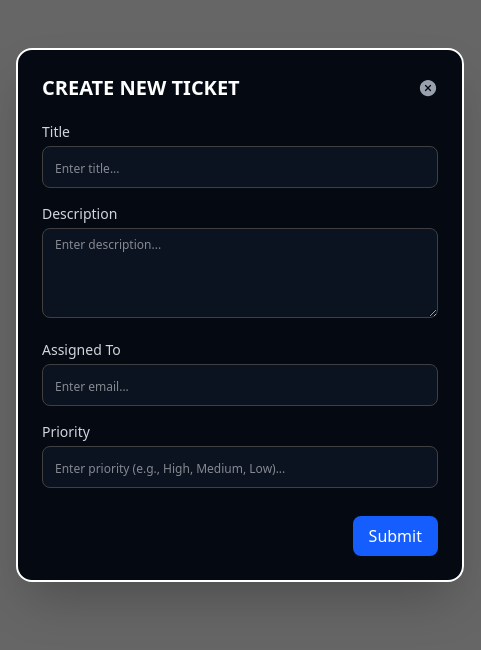
Form › shows validation errors when submitting empty form
The width and height of the screenshot is (481, 650).
Click the button "Submit" at (395, 536), box [353, 516, 438, 556]
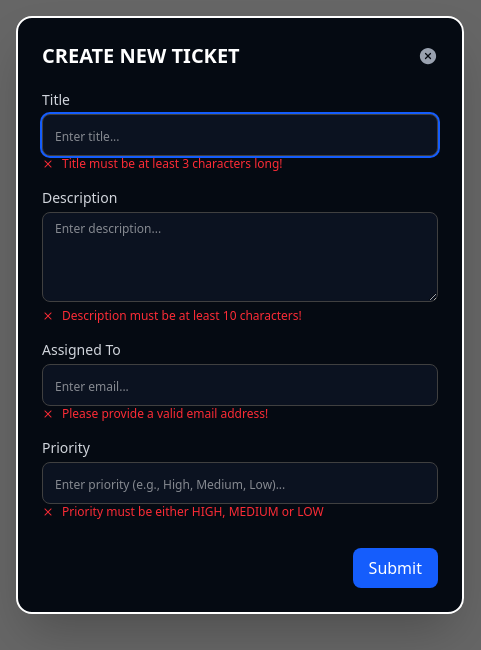
Now the text "Title must be at least 3 characters long!" is shown, box [42, 155, 283, 172]
Now the text "Description must be at least 10 characters!" is shown, box [42, 307, 302, 324]
Now the text "Please provide a valid email address!" is shown, box [42, 405, 268, 422]
